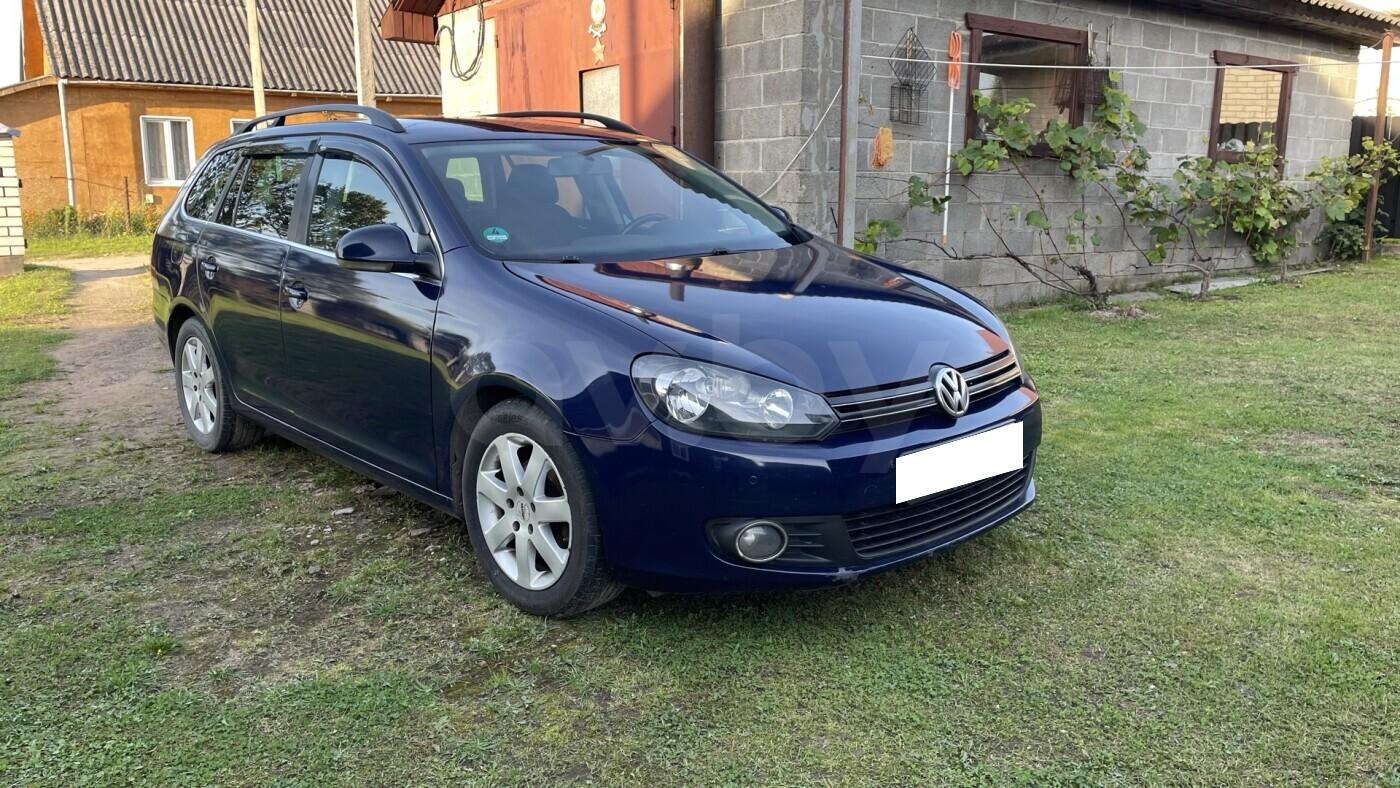Golf_2008-2013: (149, 113, 1051, 611)
